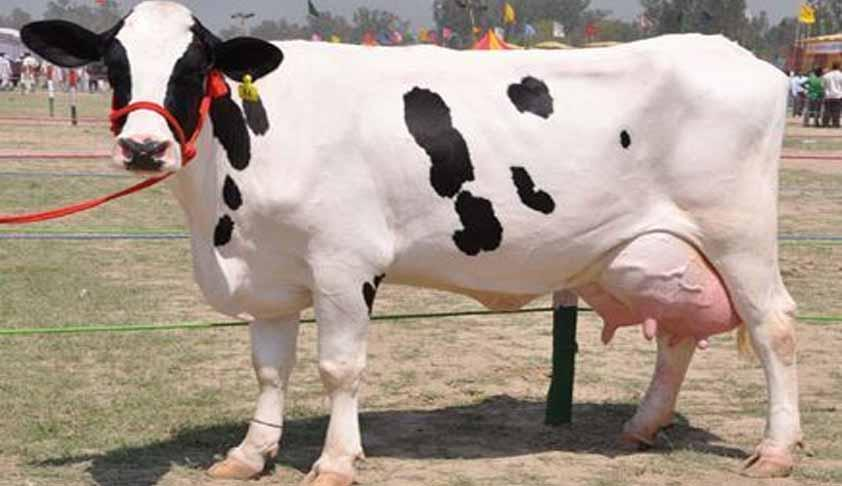cow: (20, 0, 800, 485)
